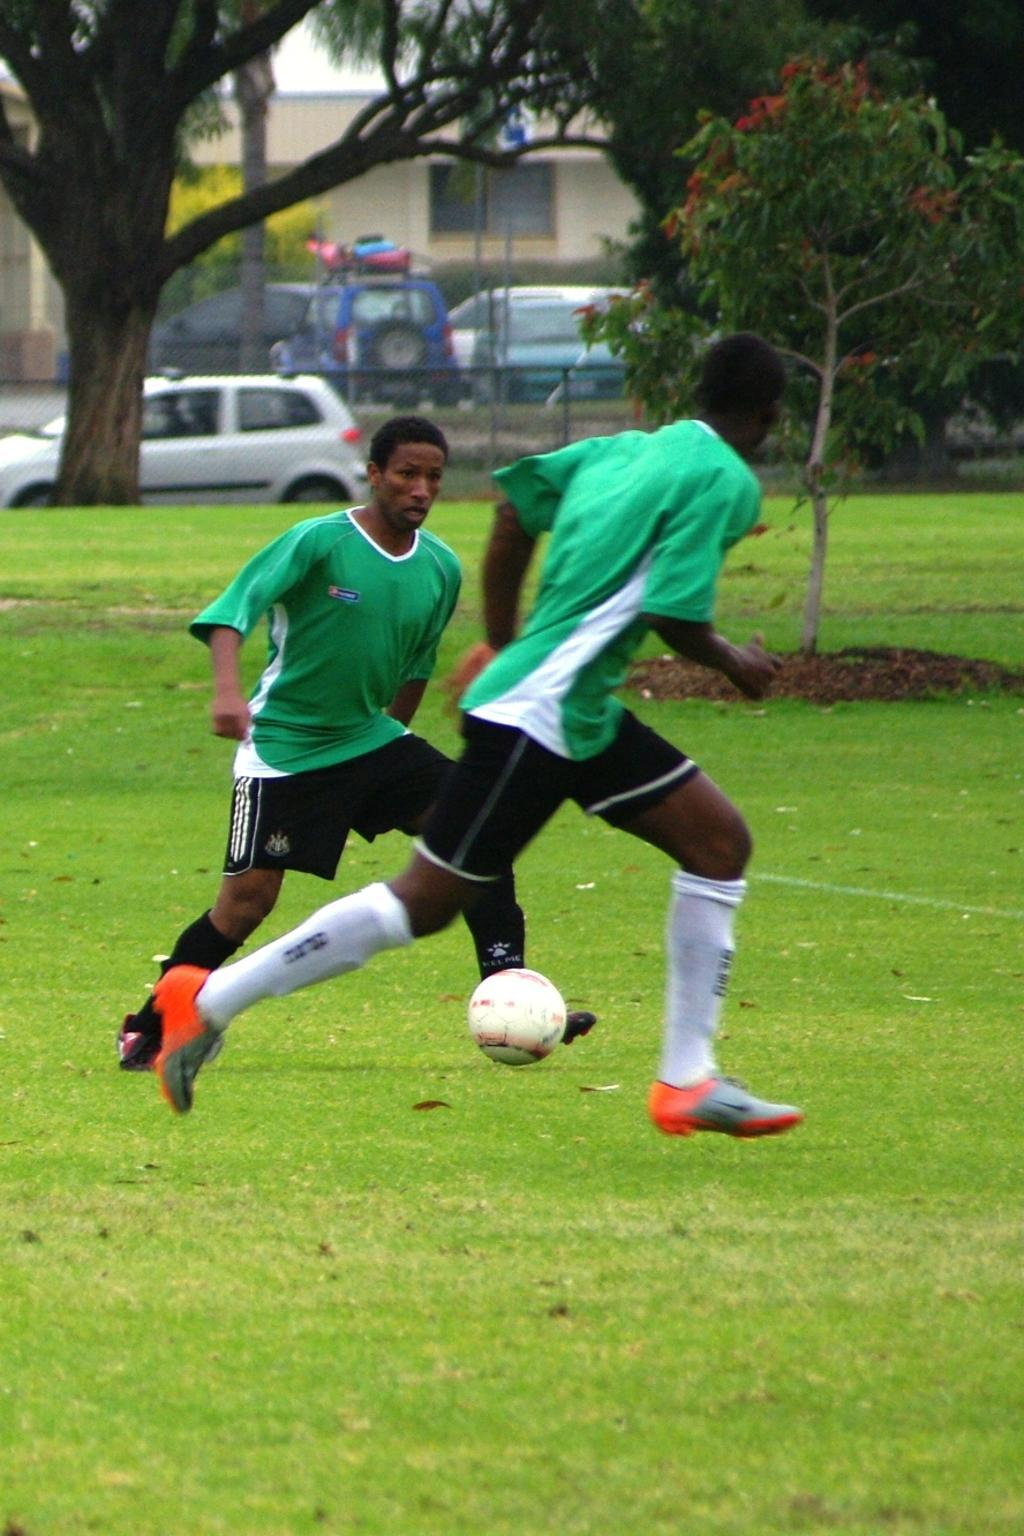face: (382, 448, 445, 535)
